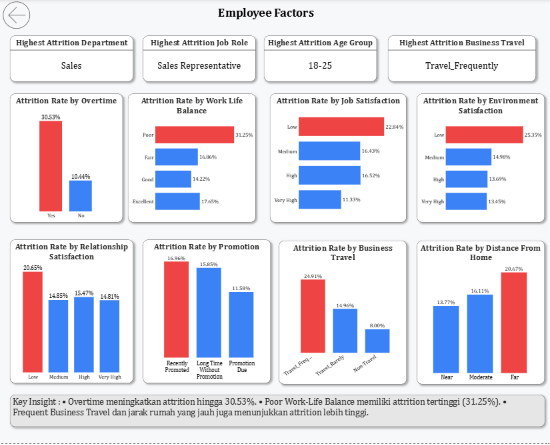

This screenshot's page, from the dashboard's own definition file:
{"tool":"powerbi","page":{"name":"Employee Factors Attrition","canvas":[3110,2500],"ordinal":1},"visuals":[{"type":"cardVisual","title":"Highest Attrition Department","fields":{"Data":["HR_Analytics_clean.Highest Attrition Department"]},"box":[54.4,207,692.7,257.3],"z":0},{"type":"cardVisual","title":"Highest Attrition Job Role","fields":{"Data":["HR_Analytics_clean.Highest Attrition Job Role"]},"box":[806.5,207,633.3,257.3],"z":1000},{"type":"cardVisual","title":"Highest Attrition Age Group","fields":{"Data":["HR_Analytics_clean.Highest Attrition Age Group"]},"box":[1484.3,207,633.3,257.3],"z":2000},{"type":"cardVisual","title":"Highest Attrition Business Travel","fields":{"Data":["HR_Analytics_clean.Highest Attrition Business Travel"]},"box":[2181.9,207,831.2,257.3],"z":3000},{"type":"textbox","title":"Employee Factors","box":[691.5,39.4,1608,84.3],"z":4000},{"type":"clusteredColumnChart","title":"Attrition Rate by Overtime","fields":{"Y":["HR_Analytics_clean.Attrition Rate"],"Category":["HR_Analytics_clean.OverTime"]},"box":[54.4,534.3,633.3,722.4],"z":5000},{"type":"clusteredBarChart","title":"Attrition Rate by Work Life Balance","fields":{"Category":["HR_Analytics_clean.WorkLifeBalance_Category"],"Y":["HR_Analytics_clean.Attrition Rate"]},"box":[722.4,534.3,717.4,722.4],"z":6000},{"type":"clusteredBarChart","title":"Attrition Rate by Job Satisfaction","fields":{"Category":["HR_Analytics_clean.JobSatisfaction_Category"],"Y":["HR_Analytics_clean.Attrition Rate"]},"box":[1518.9,534.3,766.9,722.4],"z":7000},{"type":"clusteredBarChart","title":"Attrition Rate by Environment","fields":{"Category":["HR_Analytics_clean.EnvironmentSatisfaction_Category"],"Y":["HR_Analytics_clean.Attrition Rate"]},"box":[2345.2,534.3,717.4,722.4],"z":8000},{"type":"clusteredColumnChart","title":"Attrition Rate by Relationship Satisfaction","fields":{"Y":["HR_Analytics_clean.Attrition Rate"],"Category":["HR_Analytics_clean.RelationshipSatisfaction_Category"]},"box":[54.4,1355.7,692.7,806.5],"z":9000},{"type":"clusteredColumnChart","title":"Attrition Rate by Promotion","fields":{"Category":["HR_Analytics_clean.PromotionStatus"],"Y":["HR_Analytics_clean.Attrition Rate"]},"box":[801.5,1355.7,717.4,806.5],"z":10000},{"type":"clusteredColumnChart","title":"Attrition Rate by Business Travel","fields":{"Category":["HR_Analytics_clean.BusinessTravel"],"Y":["HR_Analytics_clean.Attrition Rate"]},"box":[1568.4,1360.6,717.4,806.5],"z":11000},{"type":"clusteredColumnChart","title":"Attrition Rate by Distance From Home","fields":{"Y":["HR_Analytics_clean.Attrition Rate"],"Category":["HR_Analytics_clean.DistanceCategory"]},"box":[2345.2,1360.6,717.4,806.5],"z":12000},{"type":"textbox","title":"Key Insight : • Overtime meningkatkan attrition hingga 30.53%. • Poor Work-Life Balance memiliki attrition tertinggi (31.25%). • Frequent Business Travel dan jarak rumah yang jauh juga menunjukkan att","box":[56.2,2226.4,3007.9,179.9],"z":12001},{"type":"actionButton","box":[0,0,191.2,185.5],"z":12002}]}

Visuals, with their boxes in screenshot pixels (x1, y1, x2, y2), scaled from the page's 3110x2500 canvas onto the 550x445 screenshot:
"Highest Attrition Department" cardVisual: left=10, top=37, right=132, bottom=83
"Highest Attrition Job Role" cardVisual: left=143, top=37, right=255, bottom=83
"Highest Attrition Age Group" cardVisual: left=262, top=37, right=374, bottom=83
"Highest Attrition Business Travel" cardVisual: left=386, top=37, right=533, bottom=83
"Employee Factors" textbox: left=122, top=7, right=407, bottom=22
"Attrition Rate by Overtime" clusteredColumnChart: left=10, top=95, right=122, bottom=224
"Attrition Rate by Work Life Balance" clusteredBarChart: left=128, top=95, right=255, bottom=224
"Attrition Rate by Job Satisfaction" clusteredBarChart: left=269, top=95, right=404, bottom=224
"Attrition Rate by Environment" clusteredBarChart: left=415, top=95, right=542, bottom=224
"Attrition Rate by Relationship Satisfaction" clusteredColumnChart: left=10, top=241, right=132, bottom=385
"Attrition Rate by Promotion" clusteredColumnChart: left=142, top=241, right=269, bottom=385
"Attrition Rate by Business Travel" clusteredColumnChart: left=277, top=242, right=404, bottom=386
"Attrition Rate by Distance From Home" clusteredColumnChart: left=415, top=242, right=542, bottom=386
"Key Insight : • Overtime meningkatkan attrition hingga 30.53%. • Poor Work-Life Balance memiliki attrition tertinggi (31.25%). • Frequent Business Travel dan jarak rumah yang jauh juga menunjukkan att" textbox: left=10, top=396, right=542, bottom=428
actionButton: left=0, top=0, right=34, bottom=33
